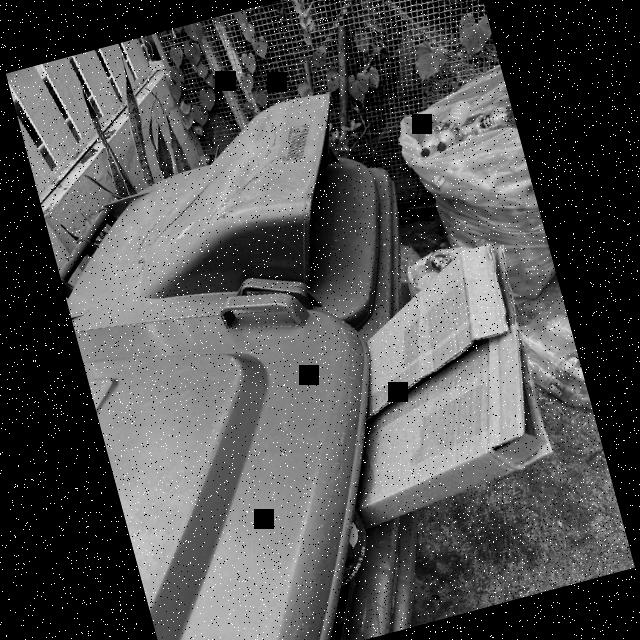can: (423, 246, 457, 278)
cardboard_box: (300, 240, 567, 528)
plastic_bag: (388, 61, 559, 316), (508, 299, 592, 423), (401, 240, 482, 300)
plastic_bottle: (427, 96, 479, 152), (412, 110, 458, 158), (456, 106, 515, 140), (414, 118, 441, 146)
plastic_bottle_cap: (436, 139, 448, 152), (420, 146, 430, 156), (505, 108, 513, 118)
